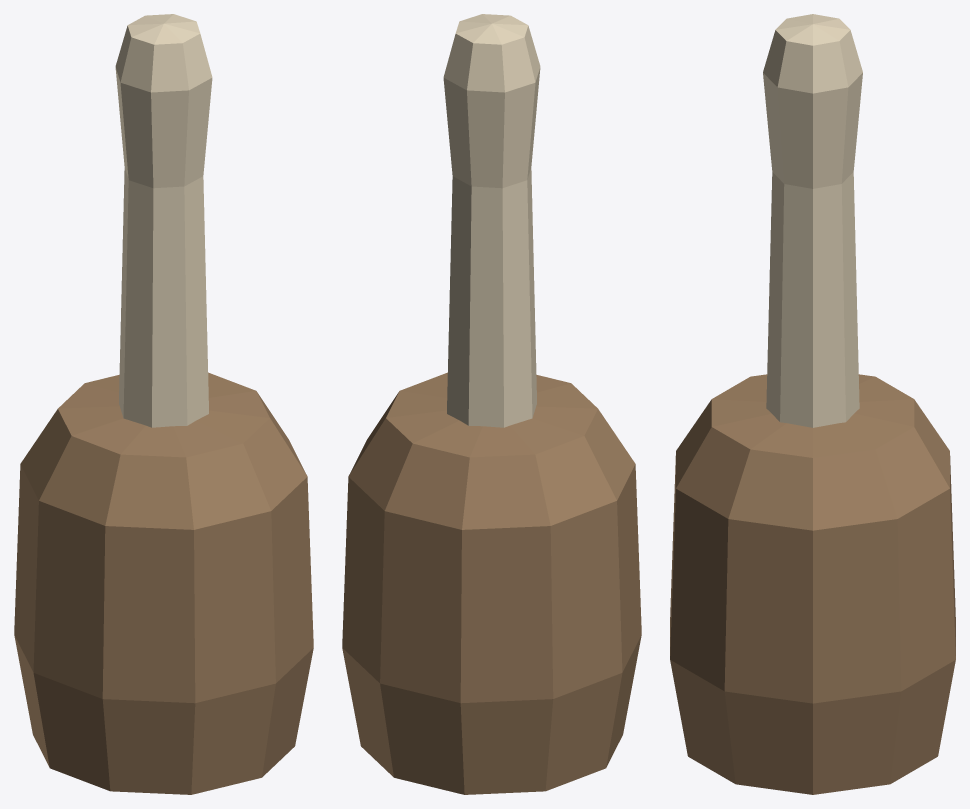
The model's file is prop-carving-mallet-wc1.fbx.
The picture shows the model from 3 angles, left to right: view 1: azimuth 30°, elevation 25°; view 2: azimuth 150°, elevation 25°; view 3: azimuth 270°, elevation 25°; orthographic projection.
Parts seen in each view (by area): view 1: prop-carving-mallet-wc1; view 2: prop-carving-mallet-wc1; view 3: prop-carving-mallet-wc1.
Part boxes in pixels (<box>): prop-carving-mallet-wc1: <box>14,14,313,794</box>; prop-carving-mallet-wc1: <box>342,14,641,794</box>; prop-carving-mallet-wc1: <box>670,14,955,794</box>.
Size of the model in its own units: 9.6 by 25.2 by 9.13.
